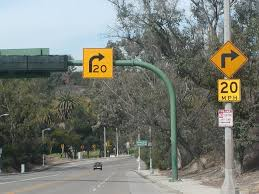right: (208, 39, 250, 80), (80, 46, 114, 81)
